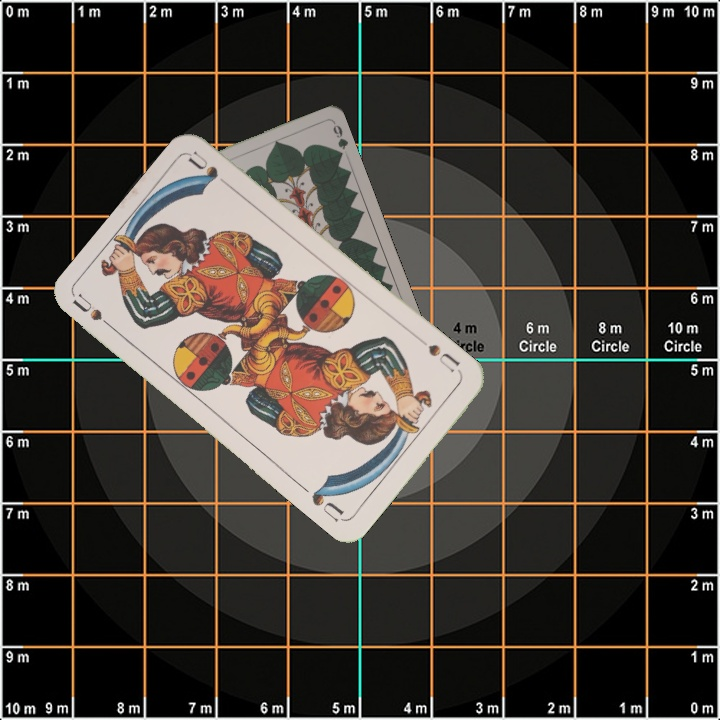SU: (70, 291, 122, 337), (415, 334, 465, 377)
